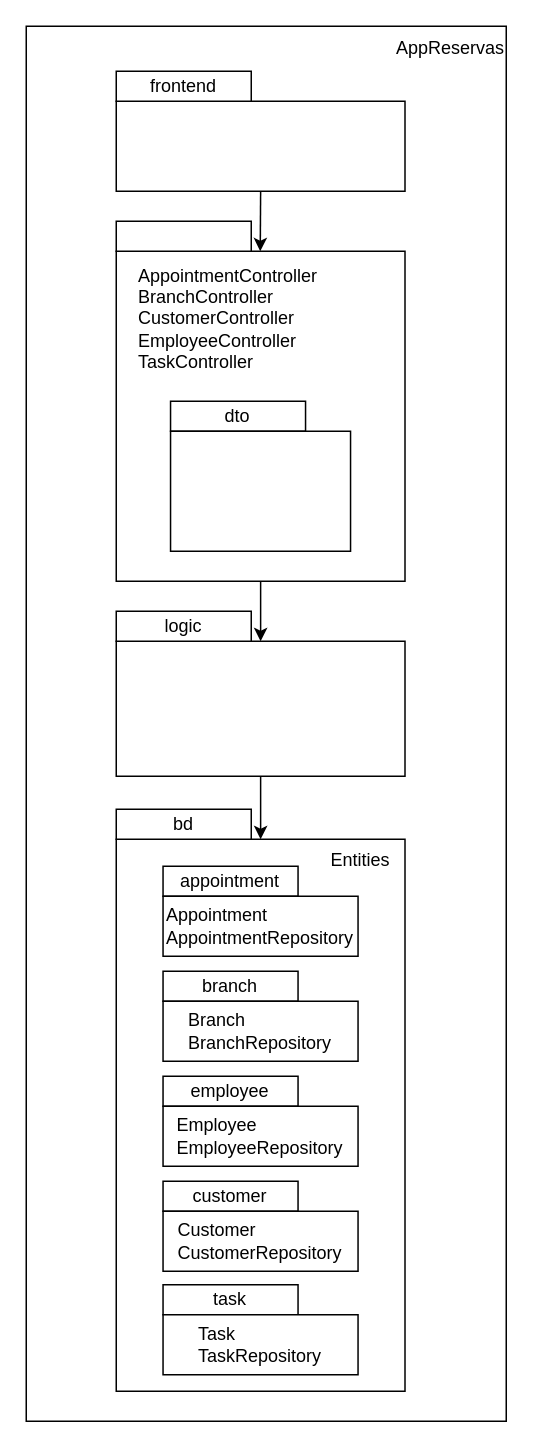
The diagram is 533 pixels wide and 1448 high, and some of its shapes have lost their labels. The centre of each missing label's shape, as x and y in pixels:
"AppointmentDTO BranchDTO CustomerDTO EmployeeDTO TaskDTO" belongs at point (260, 490).
"AppointmentLogic BranchLogic CustomerLogic EmployeeLogic TaskLogic" belongs at point (260, 708).
"controller" belongs at point (183, 235).
